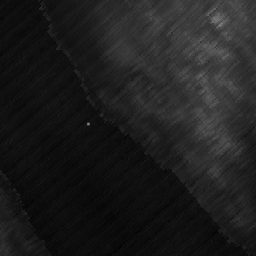Target: (85, 120, 91, 127)
